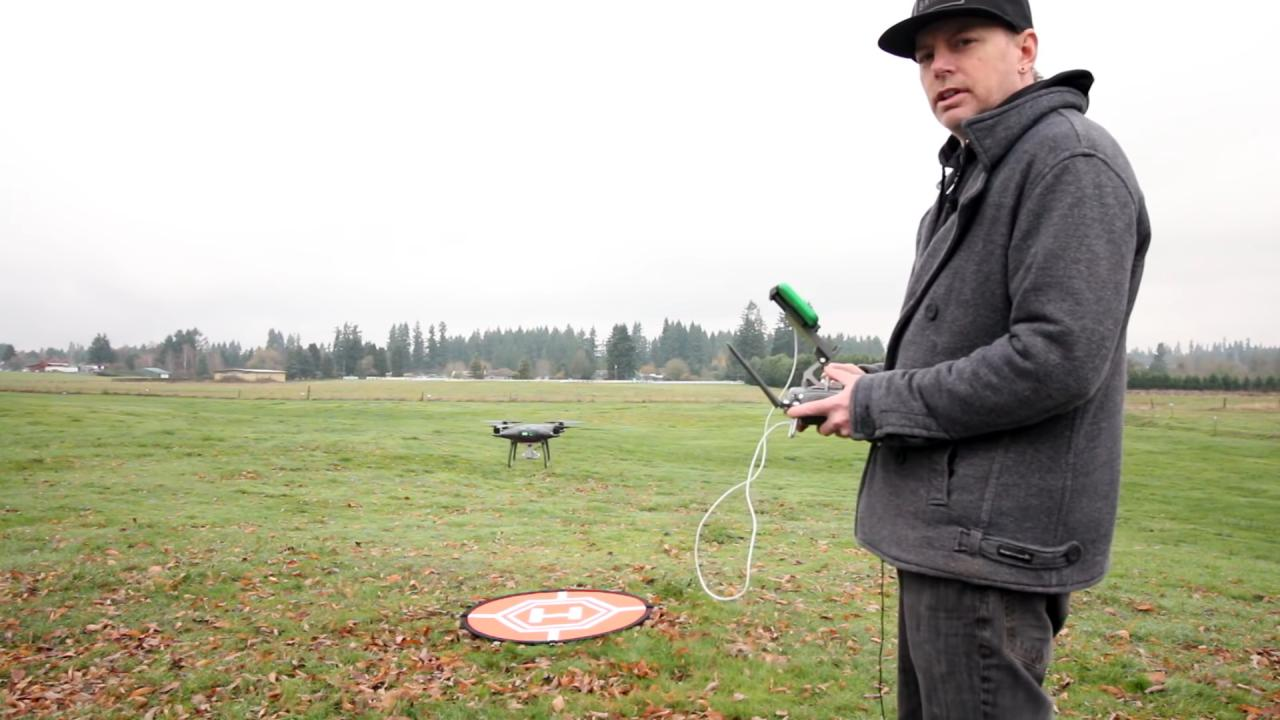Drone: (474, 413, 588, 471)
